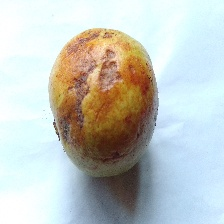guava: (55, 35, 203, 177)
